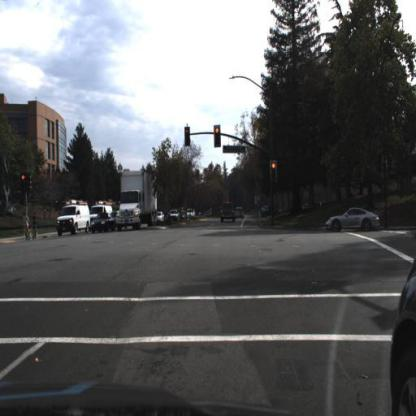biker: (17, 214, 31, 243), (23, 213, 30, 240), (33, 210, 37, 239)
car: (389, 249, 416, 416), (325, 206, 382, 235), (54, 204, 91, 235), (90, 203, 116, 228), (92, 212, 116, 233), (221, 199, 237, 226), (167, 209, 181, 224), (189, 207, 200, 223)
pedestrian: (30, 208, 40, 242), (31, 211, 41, 242), (115, 199, 125, 230)
trafficLight-Red: (212, 123, 222, 150), (269, 159, 278, 185)
trafficLight-RedLeft: (18, 173, 27, 196), (184, 124, 192, 147)
truck: (116, 171, 158, 232), (57, 201, 91, 236), (88, 202, 111, 226)
